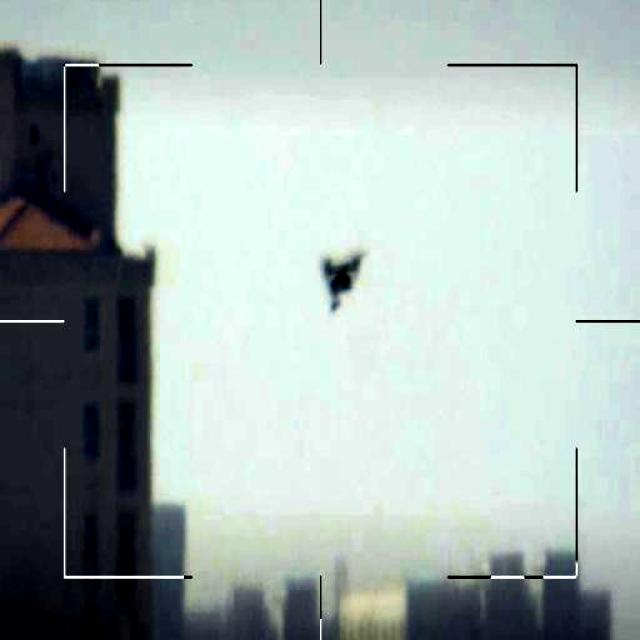bird: (319, 246, 368, 320)
